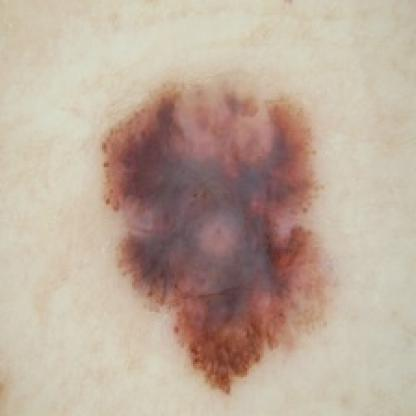malignant: (102, 87, 336, 374)
